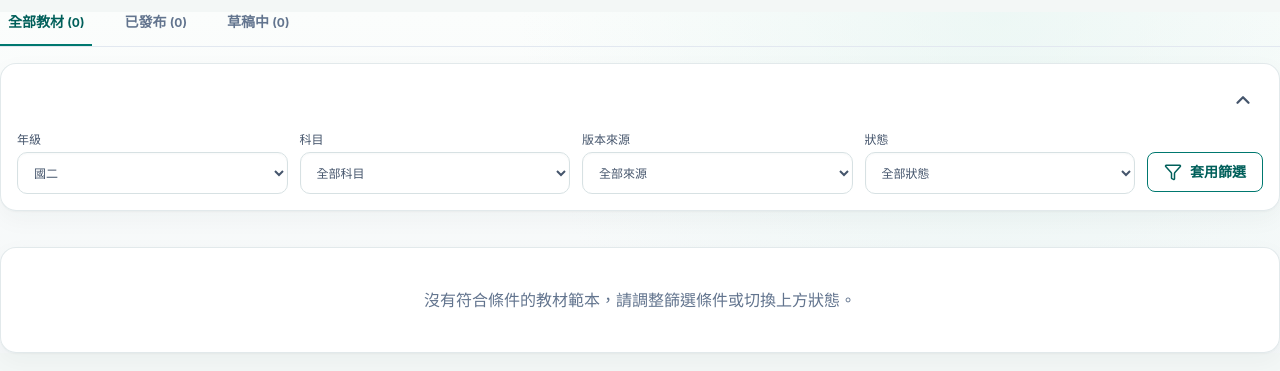
CurriculumDirectoryView › collapses filters without clearing selections and exposes icon-only accessible controls
expect the button "套用篩選" is shown: met, box x1=1147 y1=152 x2=1263 y2=192
Click the heading named "展開或收合篩選條件".
click(1243, 100)  # box x1=1232 y1=89 x2=1254 y2=111
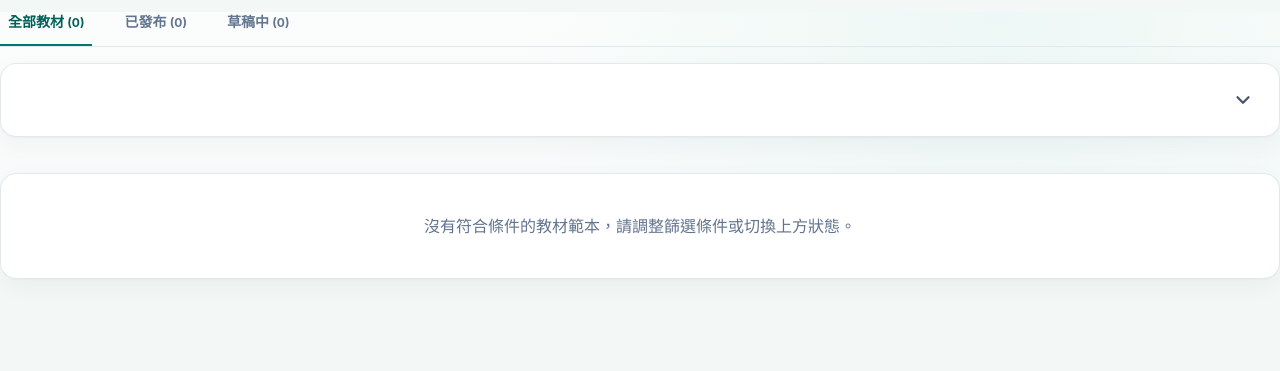
expect the element named "展開或收合篩選條件" does not have attribute open: met
Click the heading named "展開或收合篩選條件".
click(1243, 100)  # box x1=1232 y1=89 x2=1254 y2=111
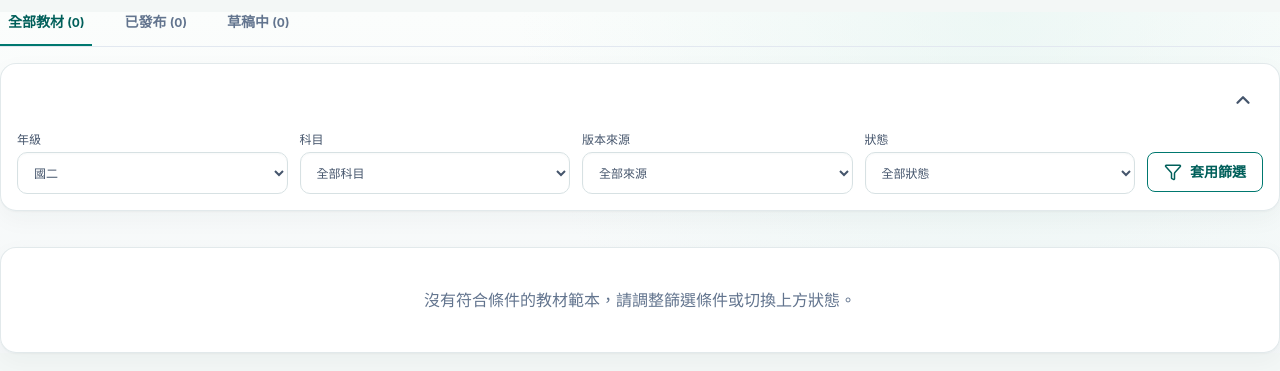
expect the dropdown labelled "年級" shows "國二": met, box x1=17 y1=152 x2=288 y2=194
